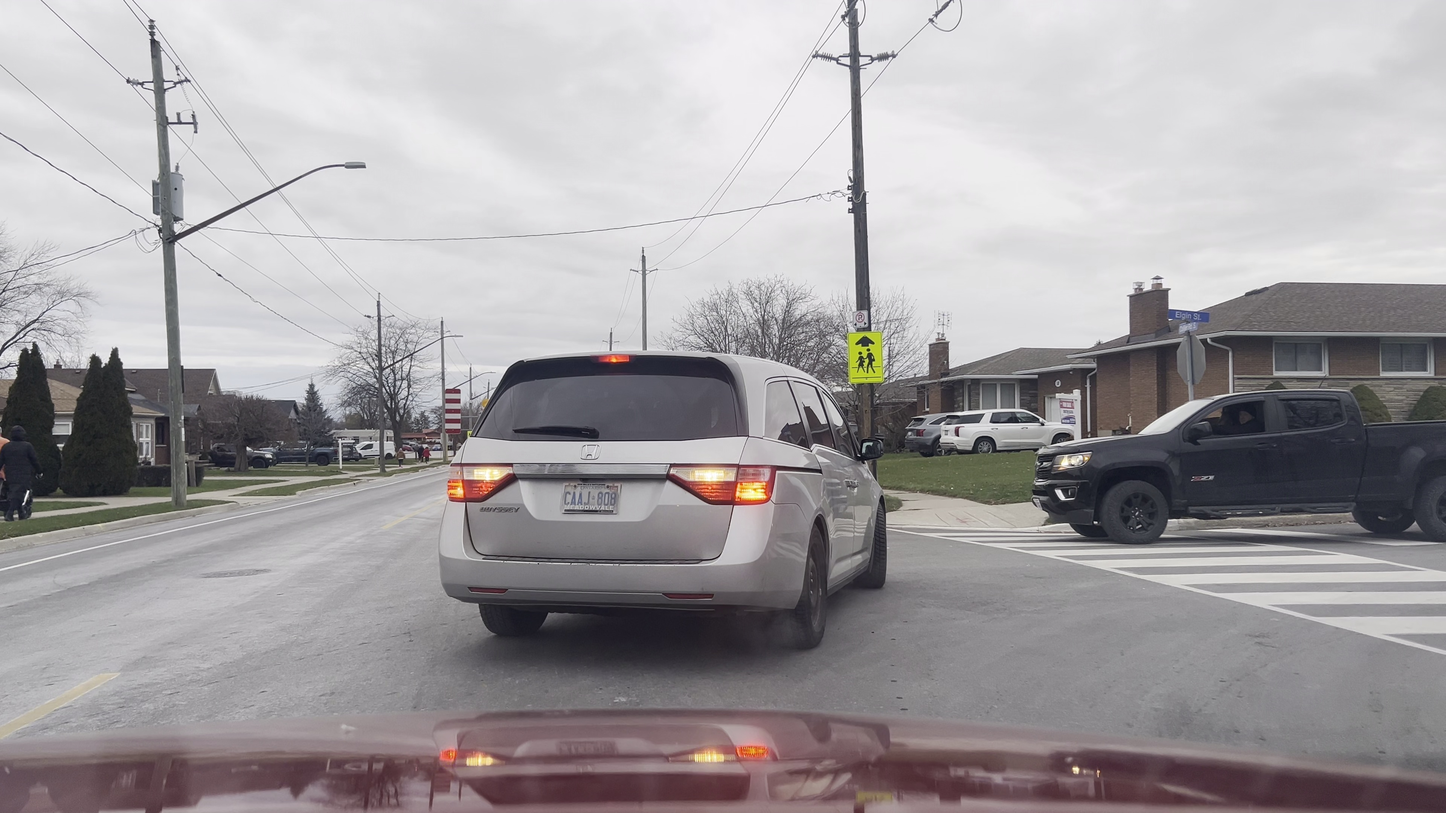construction: (428, 373, 491, 455)
